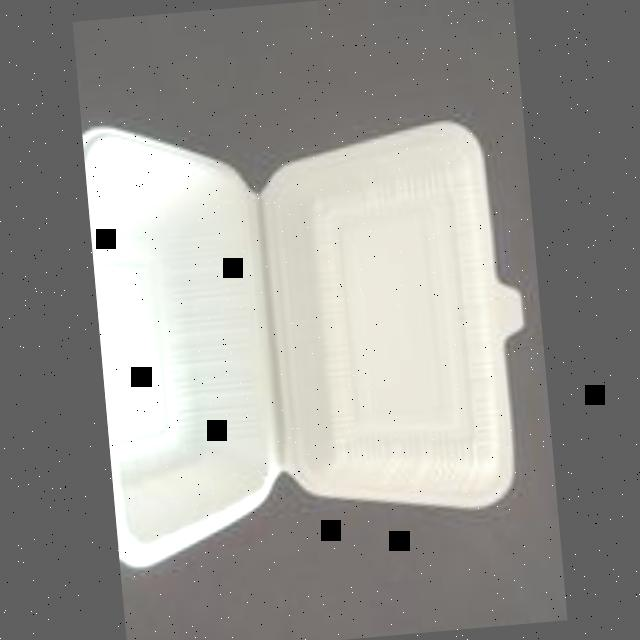plastic_box: (84, 80, 551, 576)
